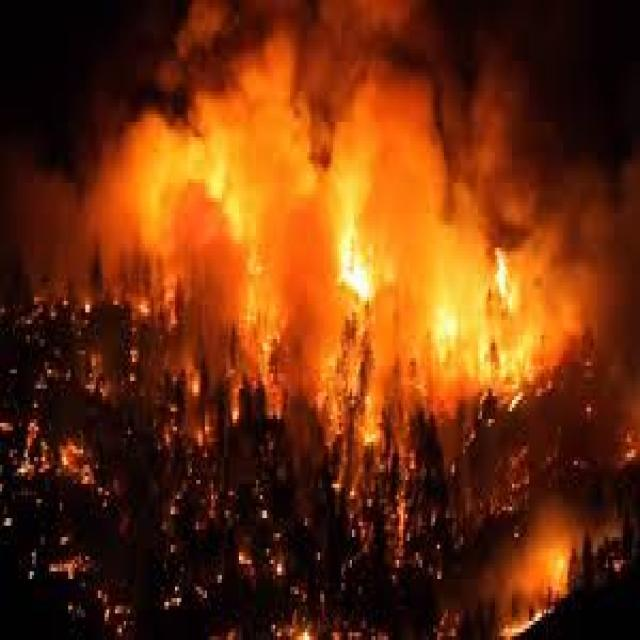Fire: (158, 145, 540, 416), (531, 529, 574, 597)
Smoke: (89, 2, 606, 202)
